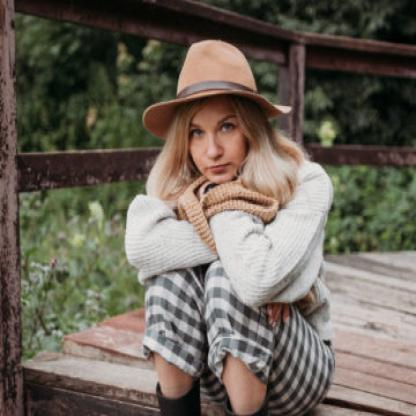hat: (137, 32, 296, 142)
